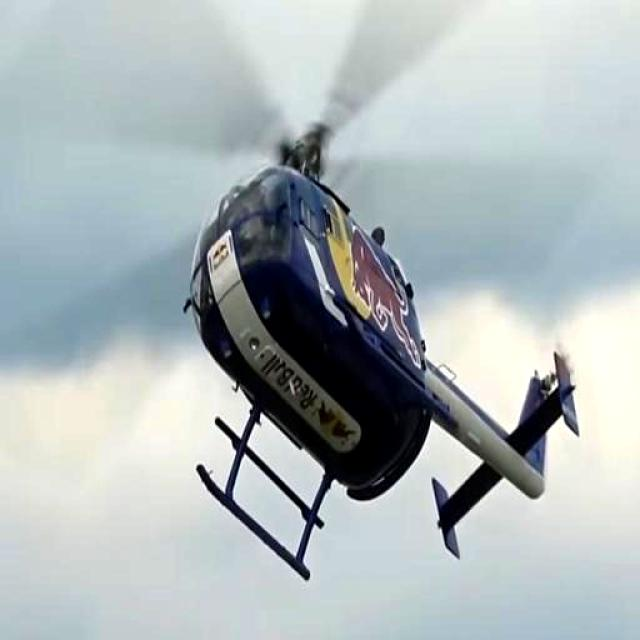drone: (104, 0, 628, 604)
